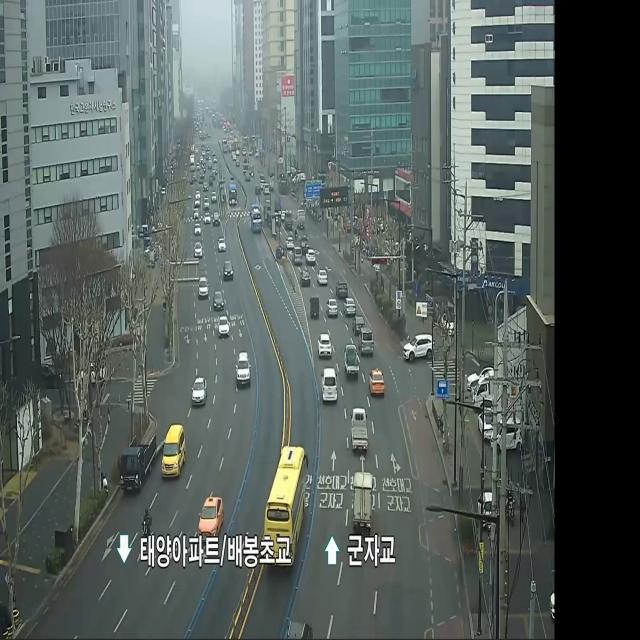car: (257, 420, 313, 584)
motorcycle: (160, 418, 187, 486), (232, 341, 254, 396), (317, 365, 342, 408), (366, 358, 386, 402), (188, 370, 209, 410), (216, 312, 232, 340)
truck: (118, 425, 158, 499), (349, 468, 376, 530), (350, 403, 370, 459), (343, 340, 360, 384)
